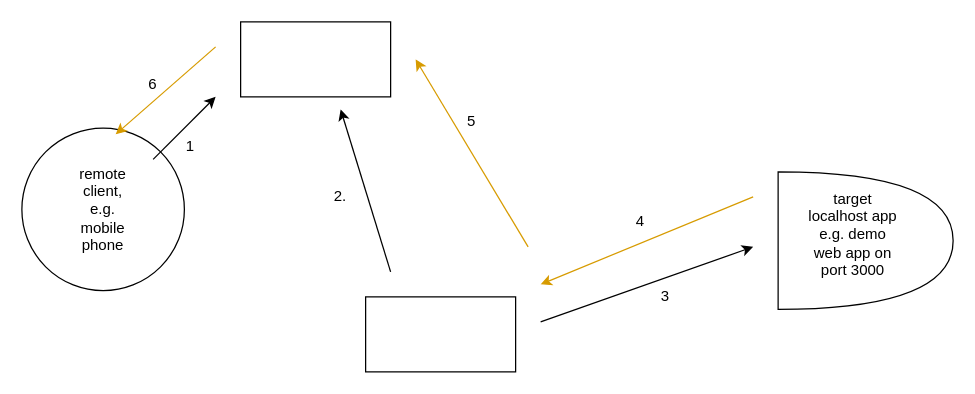
Some shapes in this 975 by 394 pixel diagram are drawn without their labels. The box of each missing label's shape, as (x1, y1, x2, y2) in pixels:
localhost proxy: (364, 296, 516, 372)
online remote proxy: (239, 21, 391, 97)
